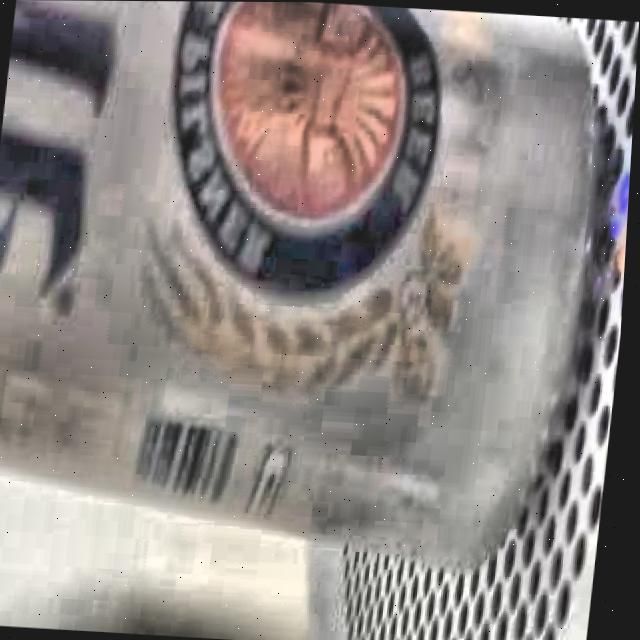metal: (0, 0, 638, 607)
